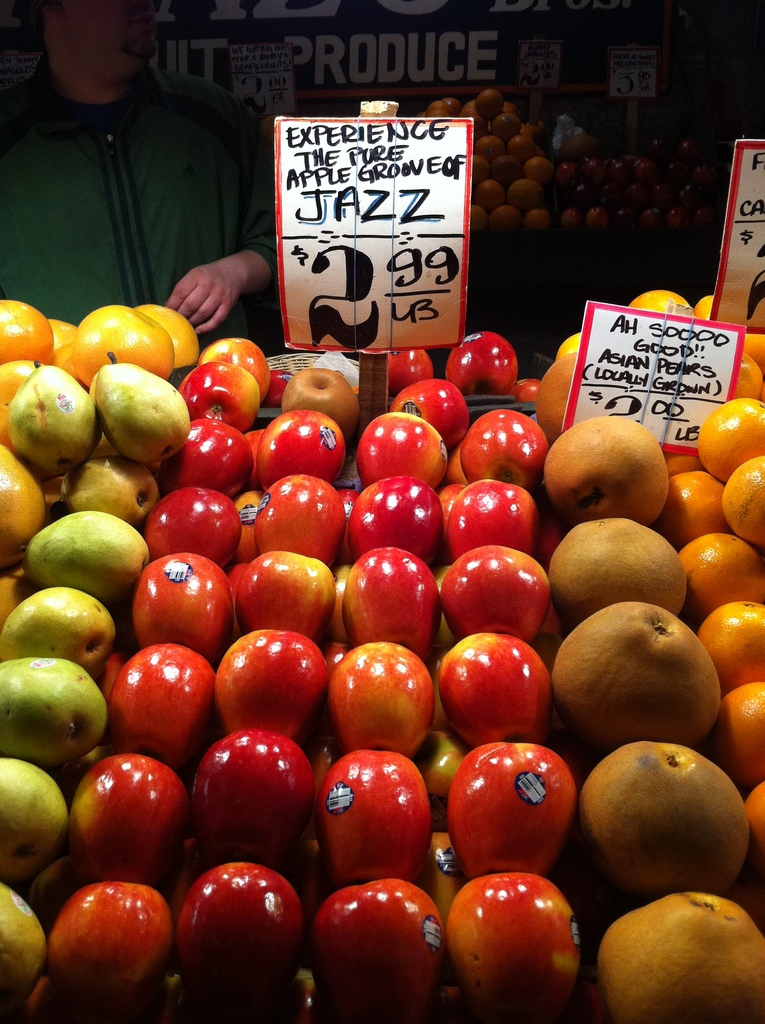Apple: (70, 330, 764, 1023), (36, 869, 177, 1000), (555, 138, 730, 232)
